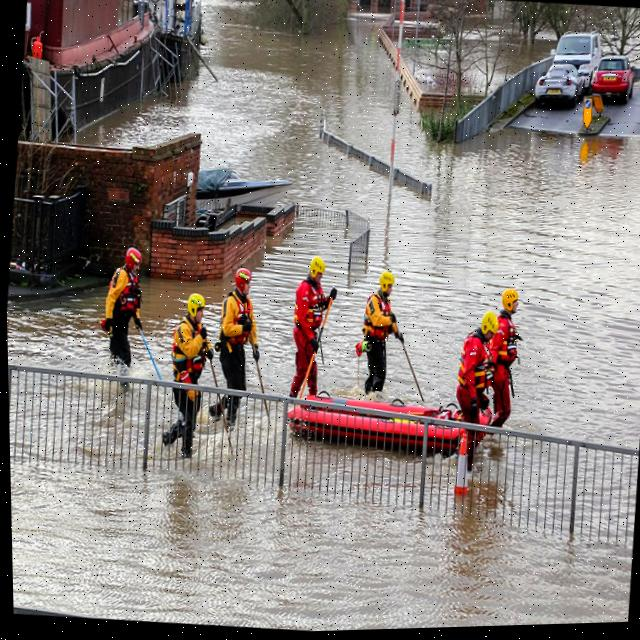rescuer: (152, 285, 221, 470), (276, 249, 348, 421), (203, 260, 271, 440), (442, 295, 505, 478), (92, 231, 154, 386), (349, 264, 407, 412), (481, 274, 528, 451)
